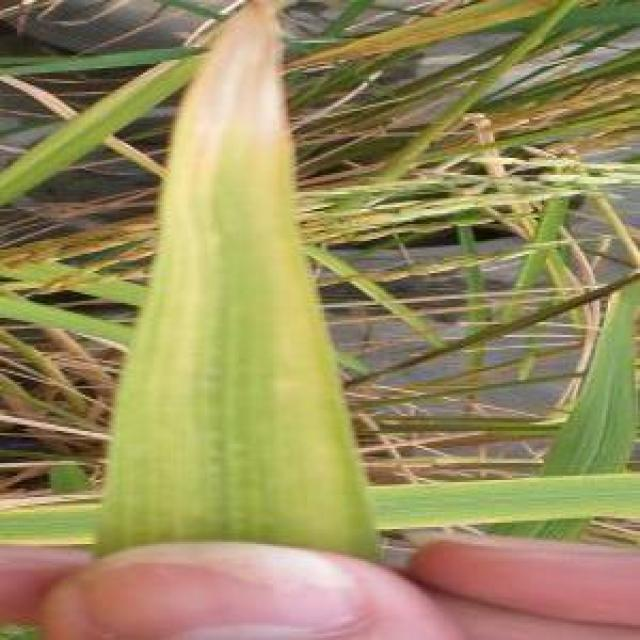Bacterial_Blight: (175, 0, 297, 131)
